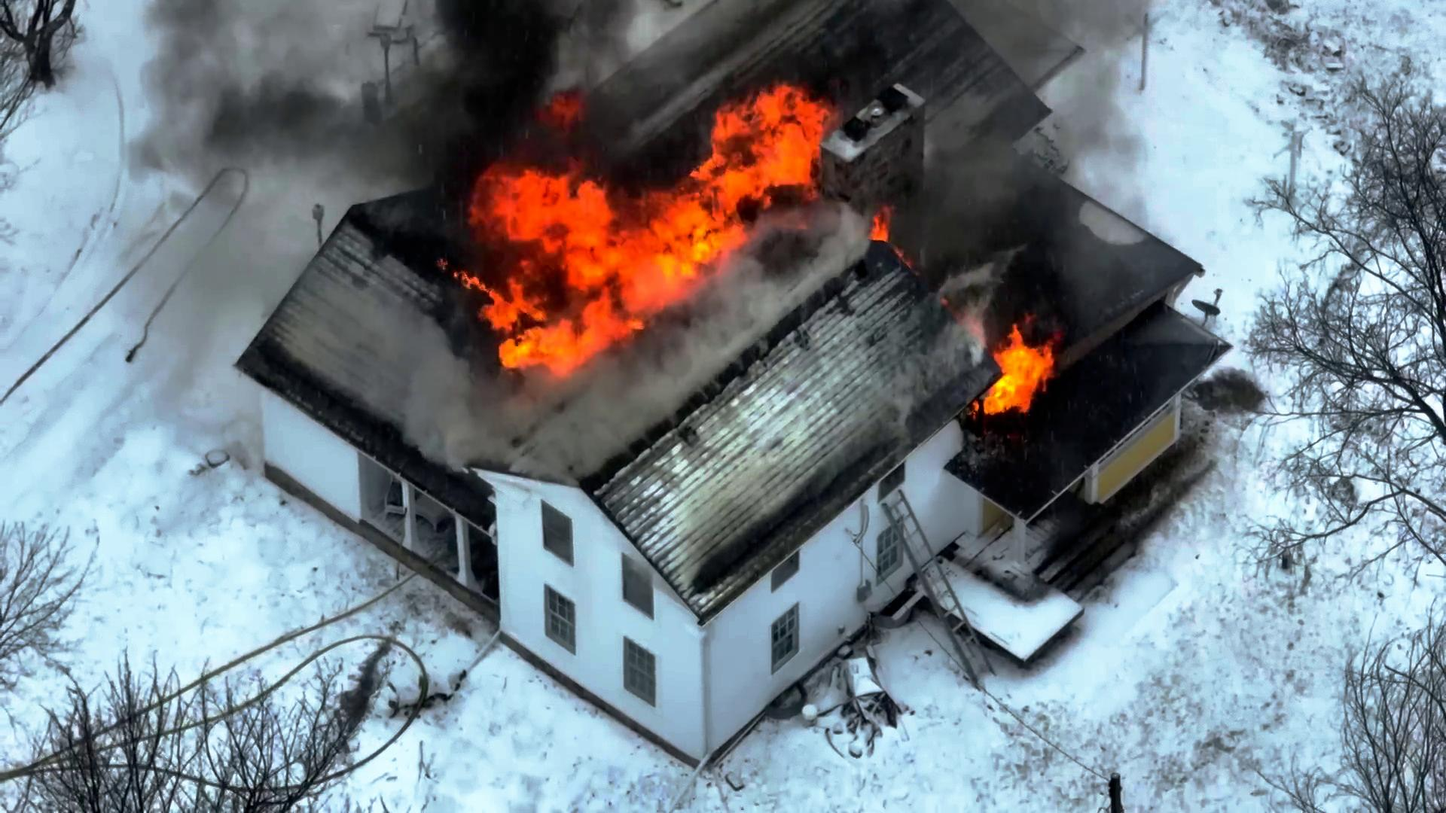fire: (467, 145, 725, 312), (705, 57, 834, 205), (966, 326, 1068, 408)
